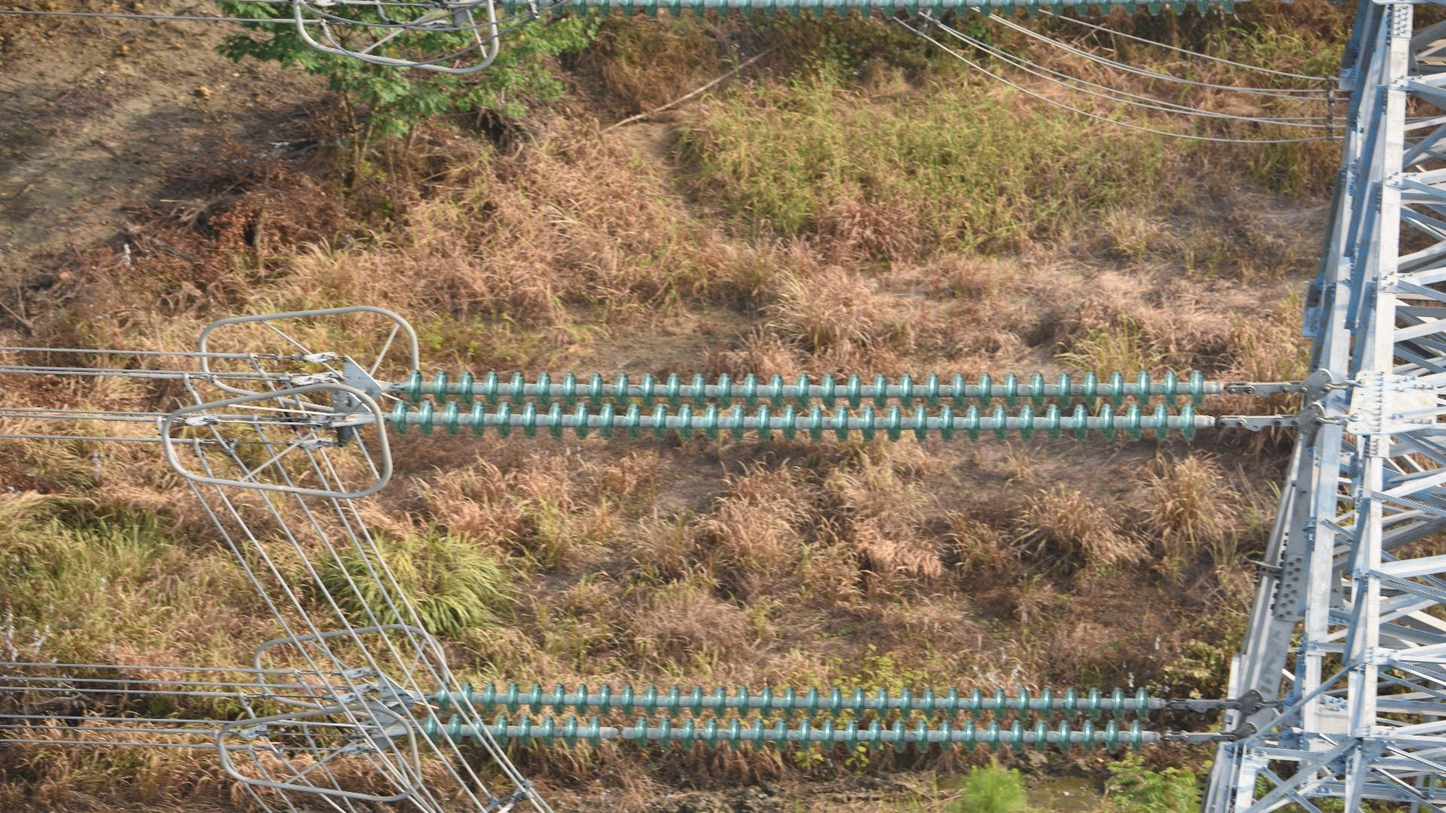insulator: (384, 367, 1218, 451), (414, 677, 1158, 763)
